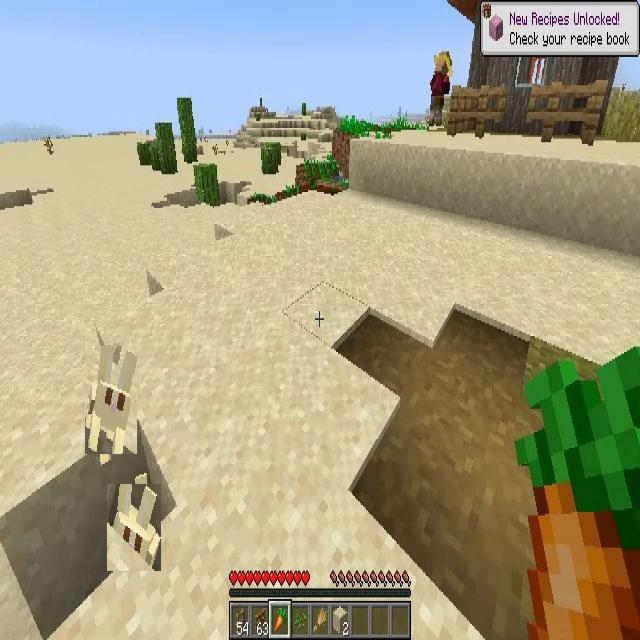people: (429, 51, 453, 127)
rabbit: (85, 346, 137, 454), (107, 484, 161, 571)
